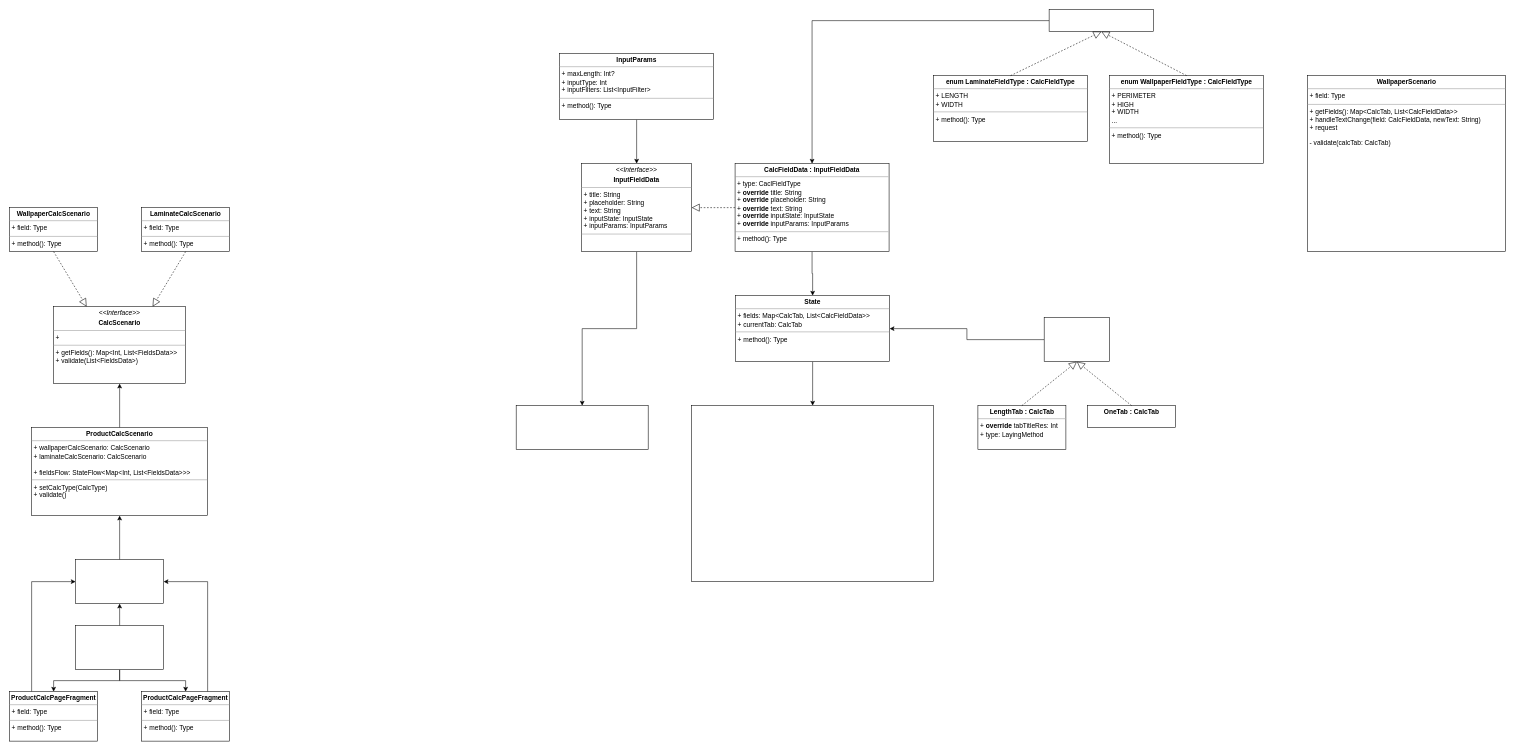
This 1515x751 diagram has some shape labels left out. Each missing label, with the centre of its shape:
<<Interface>> CalcFieldType: point (1101, 20)
<<Interface>> CalcTab + tabTitleRes: Int: point (1077, 339)
Fragment + state: State + method(): Type: point (812, 493)
InputFieldAdapterDelegate + InputFieldData + method(): Type: point (582, 427)
ProductCalcFragment + field: Type + method(): Type: point (119, 647)
ProductCalcViewModel + field: Type + method(): Type: point (119, 581)
